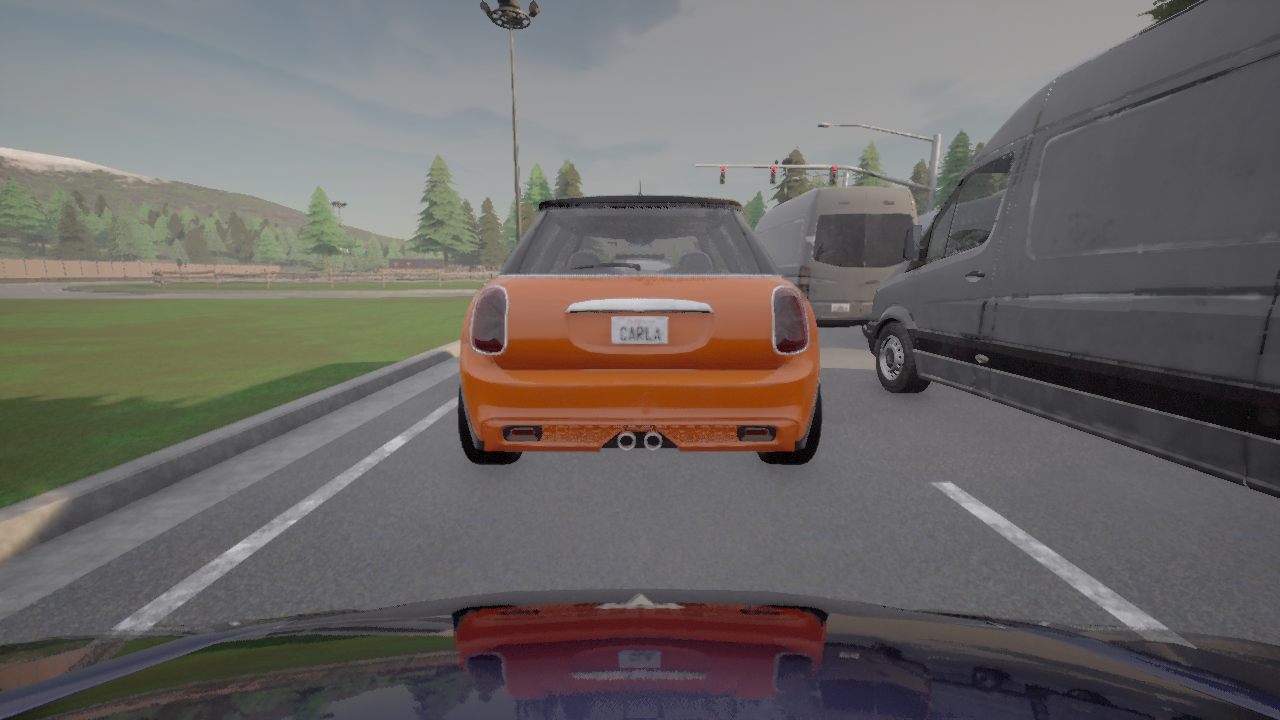cyclist: (867, 0, 1279, 499), (0, 588, 1279, 719), (458, 179, 821, 463), (754, 187, 917, 338), (917, 209, 938, 233)
